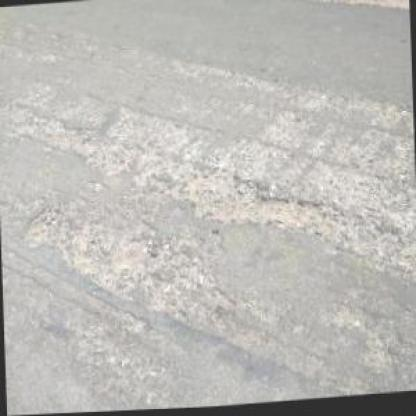pothole: (184, 164, 328, 244), (43, 112, 137, 179), (22, 206, 67, 245)
